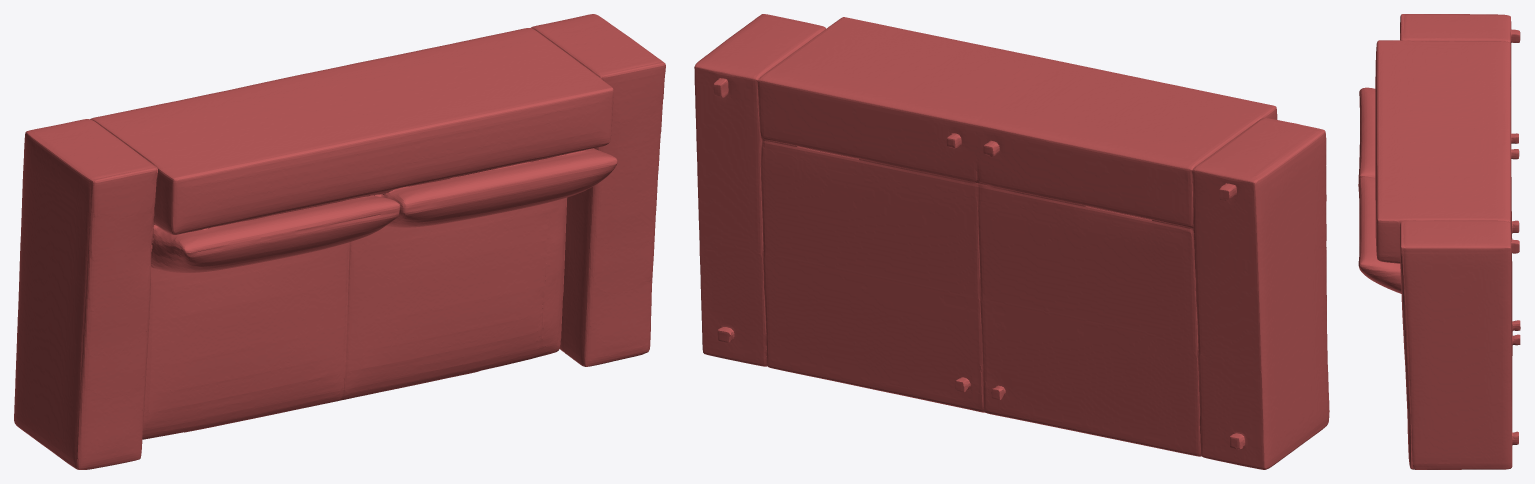
The model's file is hulls.glb.
3 views of the same model, side by side, from view 1: azimuth 30°, elevation 25°; view 2: azimuth 150°, elevation 25°; view 3: azimuth 270°, elevation 25° (orthographic). The views are drawn at different scales.
Size of the model in its own units: 2.24 by 1.15 by 0.6907.
